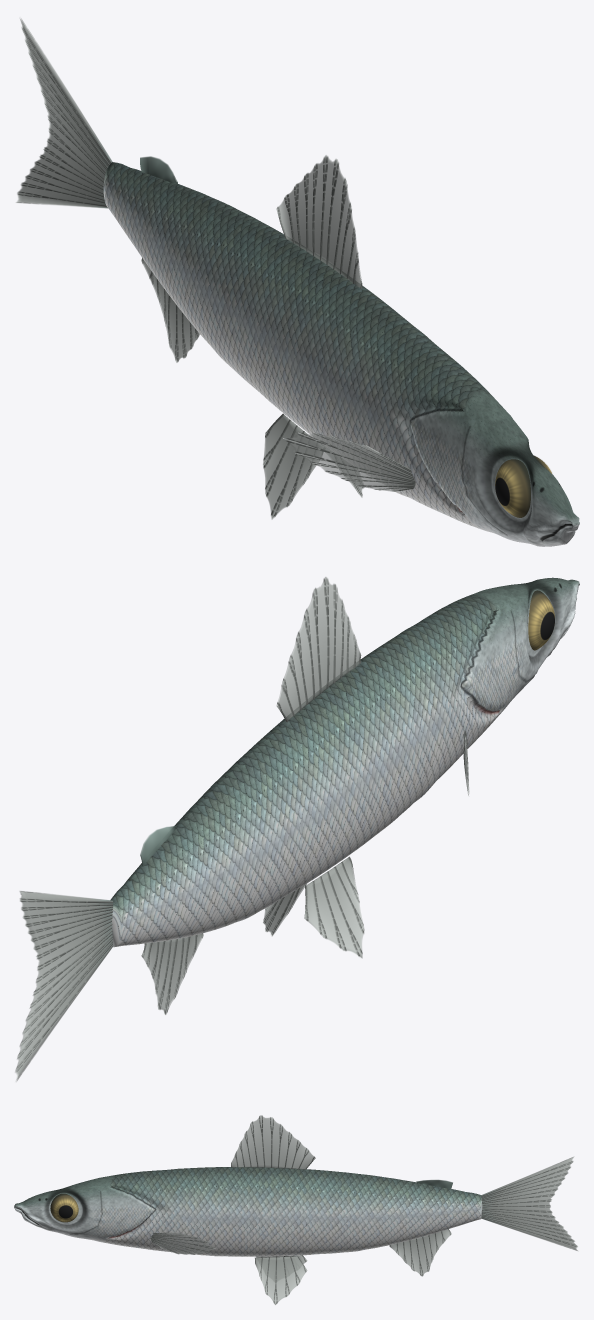
The model's file is stynka.glb.
The picture shows the model from 3 angles, top to bottom: view 1: azimuth 30°, elevation 25°; view 2: azimuth 150°, elevation 25°; view 3: azimuth 270°, elevation 25°; orthographic projection. The views are drawn at different scales.
Parts seen in each view (by area): view 1: Body, FinCaudal, FinDorsal1, FinPectoral, FinPelvic, FinAnal, EyeLeft; view 2: Body, FinCaudal, FinDorsal1, FinPelvic, FinAnal, EyeLeft; view 3: Body, FinCaudal, FinDorsal1, FinPelvic, FinAnal, FinPectoral, EyeRight.
Part boxes in pixels (box(x1,y1,x2,y2)): Body: box(103, 162, 579, 546); FinCaudal: box(16, 18, 112, 208); FinDorsal1: box(276, 155, 362, 288); FinPectoral: box(283, 433, 415, 491); FinPelvic: box(263, 413, 364, 519); FinAnal: box(141, 258, 199, 362); EyeLeft: box(495, 459, 530, 517); Body: box(110, 577, 579, 947); FinCaudal: box(15, 891, 113, 1081); FinDorsal1: box(276, 577, 361, 722); FinPelvic: box(263, 856, 364, 958); FinAnal: box(141, 933, 203, 1014); EyeLeft: box(528, 590, 554, 650); Body: box(14, 1167, 482, 1256); FinCaudal: box(481, 1156, 577, 1250); FinDorsal1: box(231, 1115, 315, 1169); FinPelvic: box(255, 1255, 307, 1304); FinAnal: box(389, 1229, 451, 1276); FinPectoral: box(150, 1232, 215, 1254); EyeRight: box(50, 1193, 78, 1222).
Bounding box in the file's own units: 0.1917 × 0.3538 × 1.
9 materials, 8 textured.
